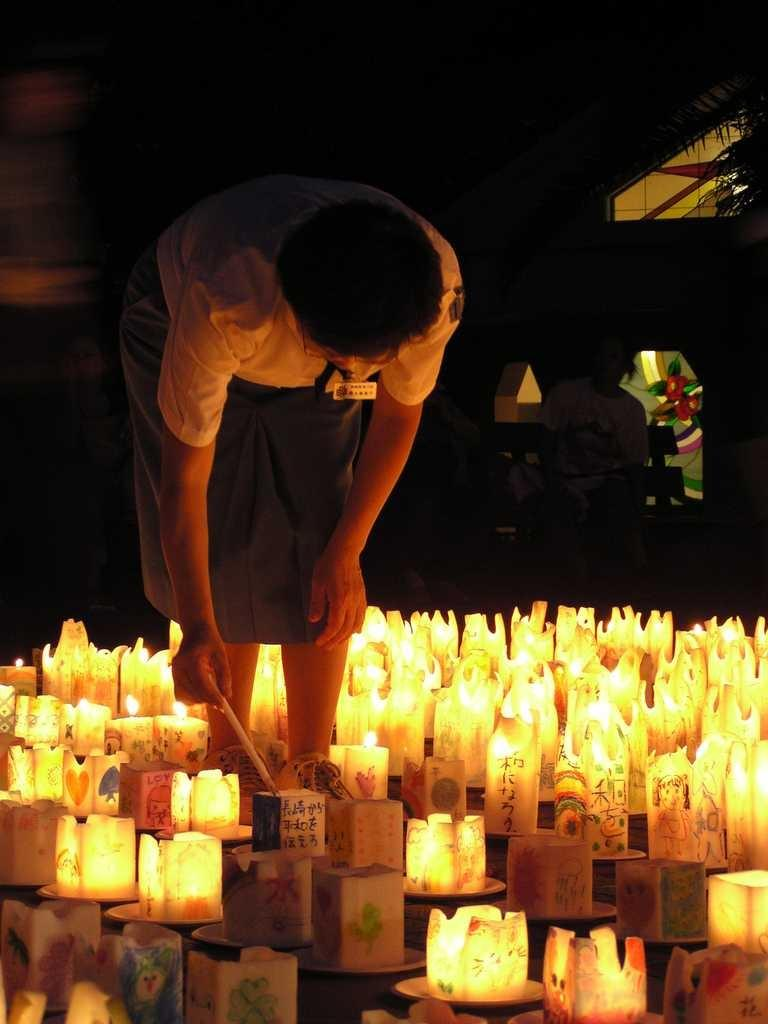fire: (368, 598, 745, 775), (13, 642, 175, 790), (78, 818, 210, 905), (435, 898, 538, 990)
